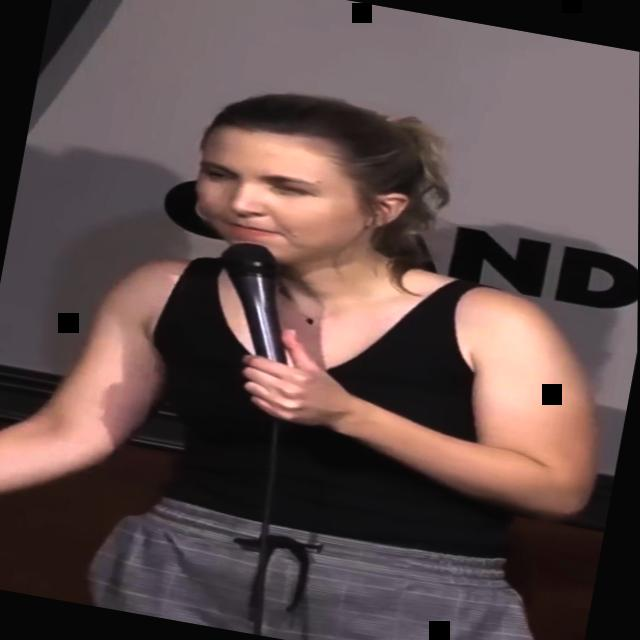NO-Mask: (178, 117, 401, 290)
